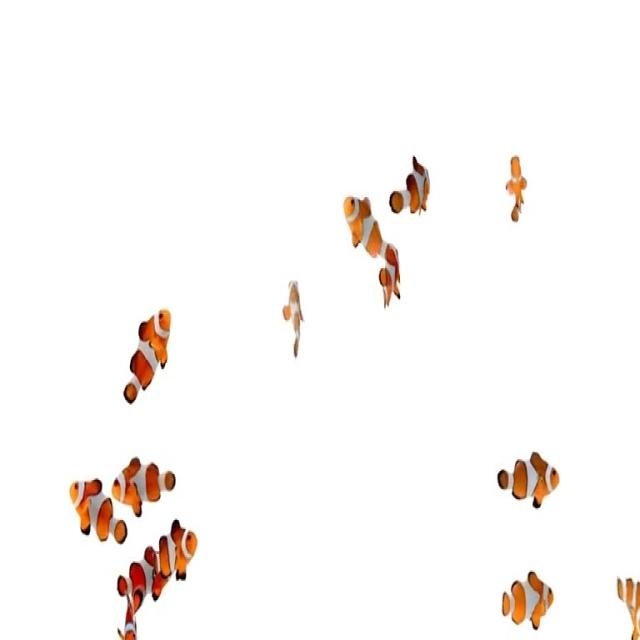fish: (114, 303, 178, 416), (486, 430, 562, 516), (69, 468, 125, 552), (497, 552, 558, 629), (387, 143, 442, 227), (110, 454, 184, 515), (143, 515, 201, 582), (340, 189, 386, 264), (281, 272, 310, 371), (377, 236, 413, 311), (612, 560, 640, 640), (504, 149, 528, 229)
